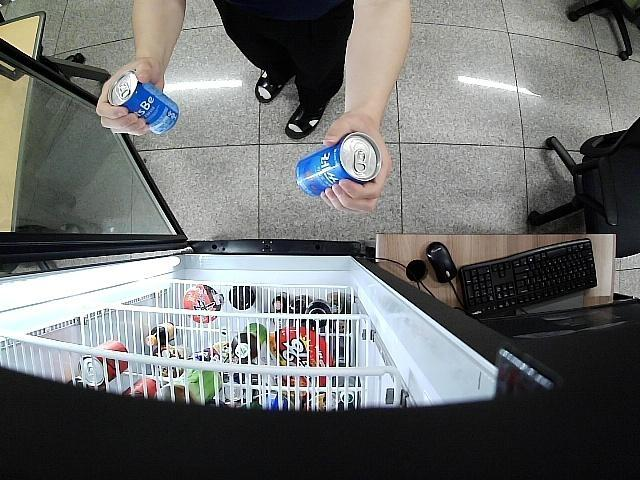15_letsbe: (295, 132, 382, 198), (108, 71, 180, 134)
